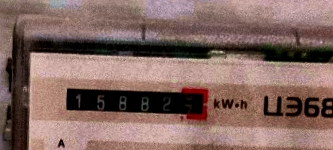1: (71, 90, 83, 108)
2: (159, 93, 171, 112)
5: (93, 92, 105, 110)
7: (181, 101, 193, 113)
8: (114, 92, 127, 110), (137, 93, 149, 111)
screen: (56, 76, 213, 126)
